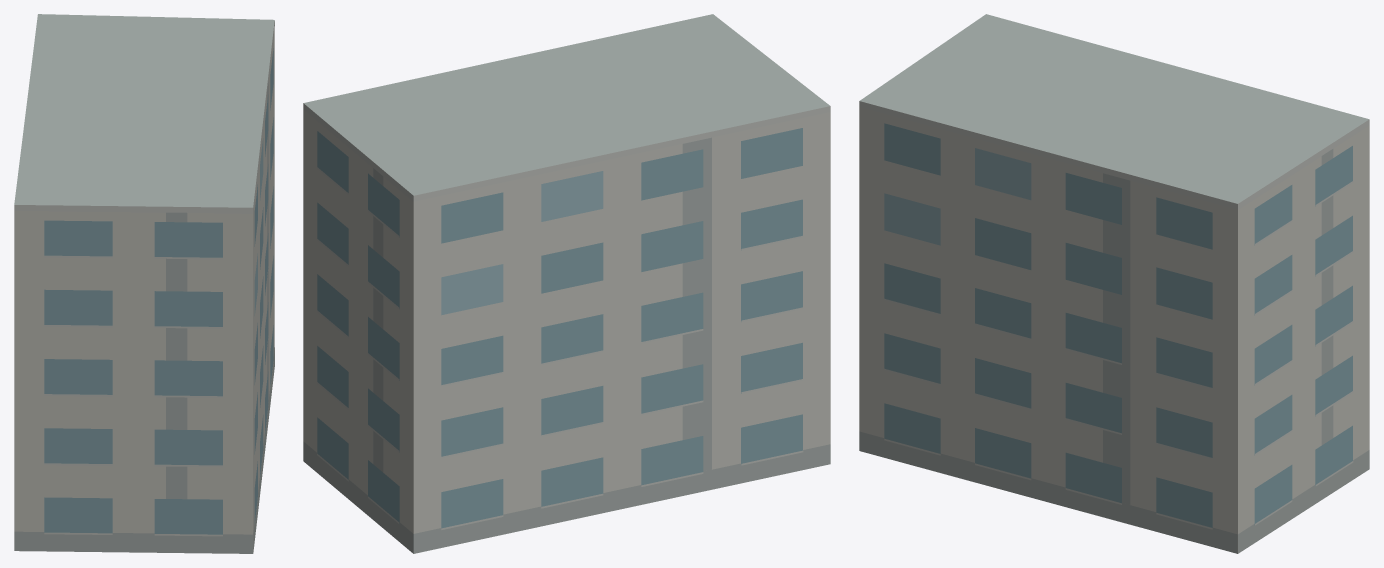
File: survey-upis-32952556.glb
The picture shows the model from 3 angles, left to right: view 1: azimuth 30°, elevation 25°; view 2: azimuth 150°, elevation 25°; view 3: azimuth 270°, elevation 25°; orthographic projection. The views are drawn at different scales.
Parts seen in each view (by area): view 1: survey-upis-32952556.tmp; view 2: survey-upis-32952556.tmp; view 3: survey-upis-32952556.tmp.
Part boxes in pixels (x1,y1,x2,y2): survey-upis-32952556.tmp: [14, 14, 274, 553]; survey-upis-32952556.tmp: [303, 14, 830, 553]; survey-upis-32952556.tmp: [859, 14, 1369, 553].
Bounding box in the file's own units: 16.77 × 14.4 × 19.04.
